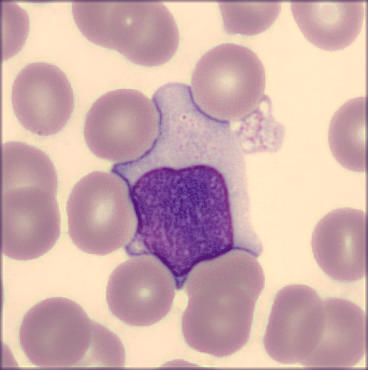WBC: (114, 78, 266, 291)
